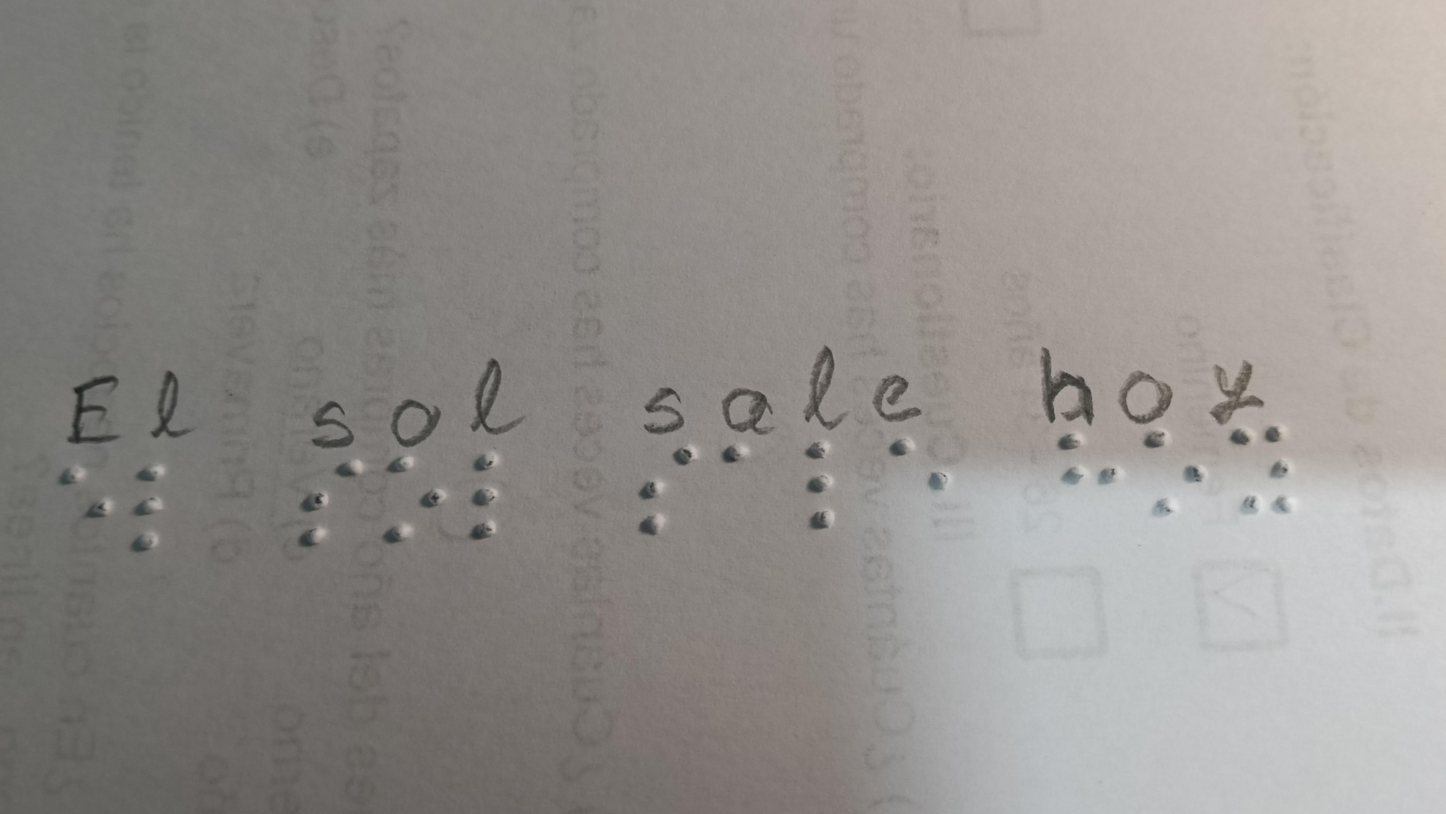a: (707, 434, 767, 480)
e: (872, 427, 960, 507), (44, 454, 126, 535)
h: (1031, 424, 1127, 500)
l: (457, 436, 526, 558), (790, 427, 852, 535), (126, 452, 177, 573)
o: (1125, 417, 1212, 526), (381, 445, 452, 553)
s: (268, 454, 370, 558), (626, 436, 704, 546)
y: (1221, 425, 1308, 523)
